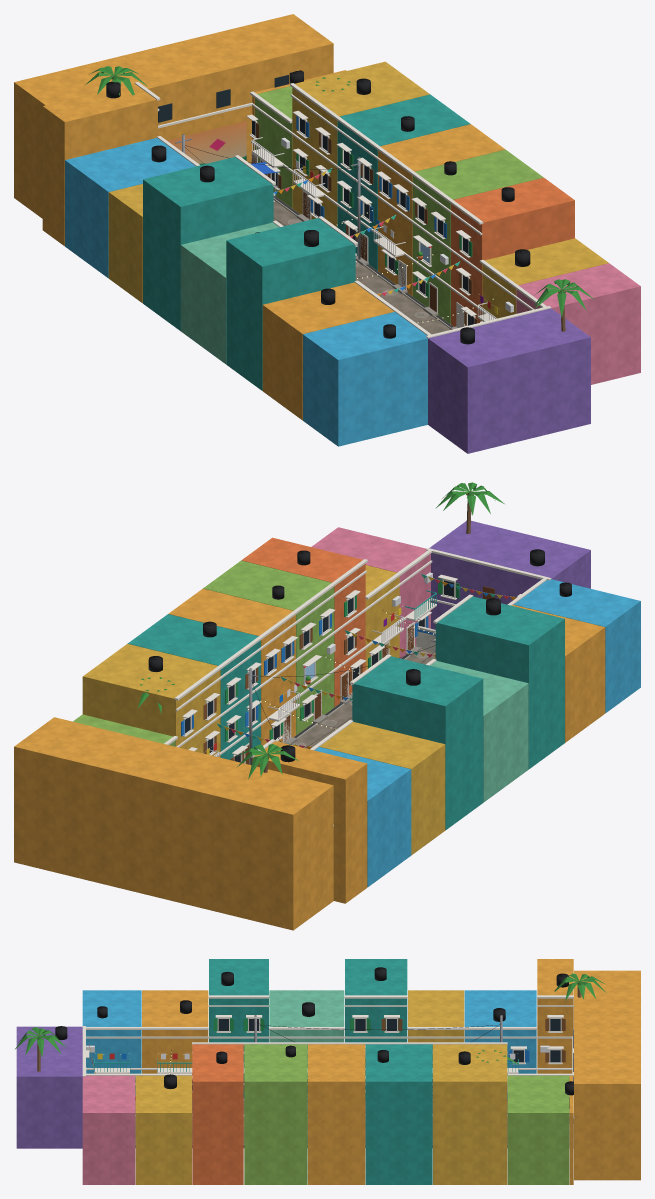
File: lane.glb
3 views of the same model, one above another, from view 1: azimuth 30°, elevation 25°; view 2: azimuth 150°, elevation 25°; view 3: azimuth 270°, elevation 25° (orthographic). The views are drawn at different scales.
Parts seen in each view (by area): view 1: lane_wall_#ffb74d, lane_wall_#38b2ac, lane_wall_#4fc3f7, lane_wall_#9575cd, lane_wall_#f2c14e, lane_trim, lane_wall_#9ccc65, lane_wall_#ff8a50, lane_wall_#f48fb1, lane_wall_#7ed6b9, lane_tank_black, lane_glass (+5 smaller); view 2: lane_wall_#ffb74d, lane_wall_#38b2ac, lane_wall_#f2c14e, lane_wall_#4fc3f7, lane_trim, lane_wall_#9575cd, lane_wall_#9ccc65, lane_wall_#7ed6b9, lane_wall_#ff8a50, lane_wall_#f48fb1, lane_tank_black, lane_palm_frond (+3 smaller); view 3: lane_wall_#ffb74d, lane_wall_#f2c14e, lane_wall_#38b2ac, lane_wall_#9ccc65, lane_wall_#4fc3f7, lane_wall_#9575cd, lane_wall_#ff8a50, lane_trim, lane_wall_#f48fb1, lane_wall_#7ed6b9, lane_tank_black, lane_palm_frond (+4 smaller).
Boxes of the visible parts, bbox=[...] form: lane_wall_#ffb74d: bbox=[14, 14, 505, 420]; lane_wall_#38b2ac: bbox=[143, 94, 470, 390]; lane_wall_#4fc3f7: bbox=[65, 138, 427, 446]; lane_wall_#9575cd: bbox=[428, 308, 590, 453]; lane_wall_#f2c14e: bbox=[108, 61, 608, 318]; lane_trim: bbox=[134, 82, 551, 338]; lane_wall_#9ccc65: bbox=[255, 86, 543, 324]; lane_wall_#ff8a50: bbox=[451, 177, 574, 326]; lane_wall_#f48fb1: bbox=[516, 263, 640, 384]; lane_wall_#7ed6b9: bbox=[180, 222, 278, 363]; lane_tank_black: bbox=[106, 70, 530, 344]; lane_glass: bbox=[158, 75, 473, 325]; lane_wall_#ffb74d: bbox=[14, 588, 605, 930]; lane_wall_#38b2ac: bbox=[127, 596, 564, 830]; lane_wall_#f2c14e: bbox=[82, 565, 445, 855]; lane_wall_#4fc3f7: bbox=[314, 579, 640, 887]; lane_trim: bbox=[164, 548, 551, 826]; lane_wall_#9575cd: bbox=[429, 520, 590, 629]; lane_wall_#9ccc65: bbox=[73, 560, 334, 746]; lane_wall_#7ed6b9: bbox=[430, 661, 528, 802]; lane_wall_#ff8a50: bbox=[241, 537, 365, 706]; lane_wall_#f48fb1: bbox=[311, 527, 430, 658]; lane_tank_black: bbox=[148, 549, 571, 762]; lane_palm_frond: bbox=[138, 482, 504, 779]; lane_wall_#ffb74d: bbox=[142, 959, 640, 1184]; lane_wall_#f2c14e: bbox=[135, 990, 507, 1184]; lane_wall_#38b2ac: bbox=[209, 959, 432, 1184]; lane_wall_#9ccc65: bbox=[244, 1044, 569, 1184]; lane_wall_#4fc3f7: bbox=[82, 990, 536, 1099]; lane_wall_#9575cd: bbox=[16, 1026, 82, 1148]; lane_wall_#ff8a50: bbox=[192, 1044, 243, 1184]; lane_trim: bbox=[82, 995, 574, 1147]; lane_wall_#f48fb1: bbox=[82, 1075, 135, 1184]; lane_wall_#7ed6b9: bbox=[269, 990, 344, 1077]; lane_tank_black: bbox=[55, 967, 573, 1095]; lane_palm_frond: bbox=[15, 973, 606, 1064].
Size of the model in its own units: 26 by 11.35 by 56.14.
69 materials, 14 textured.
